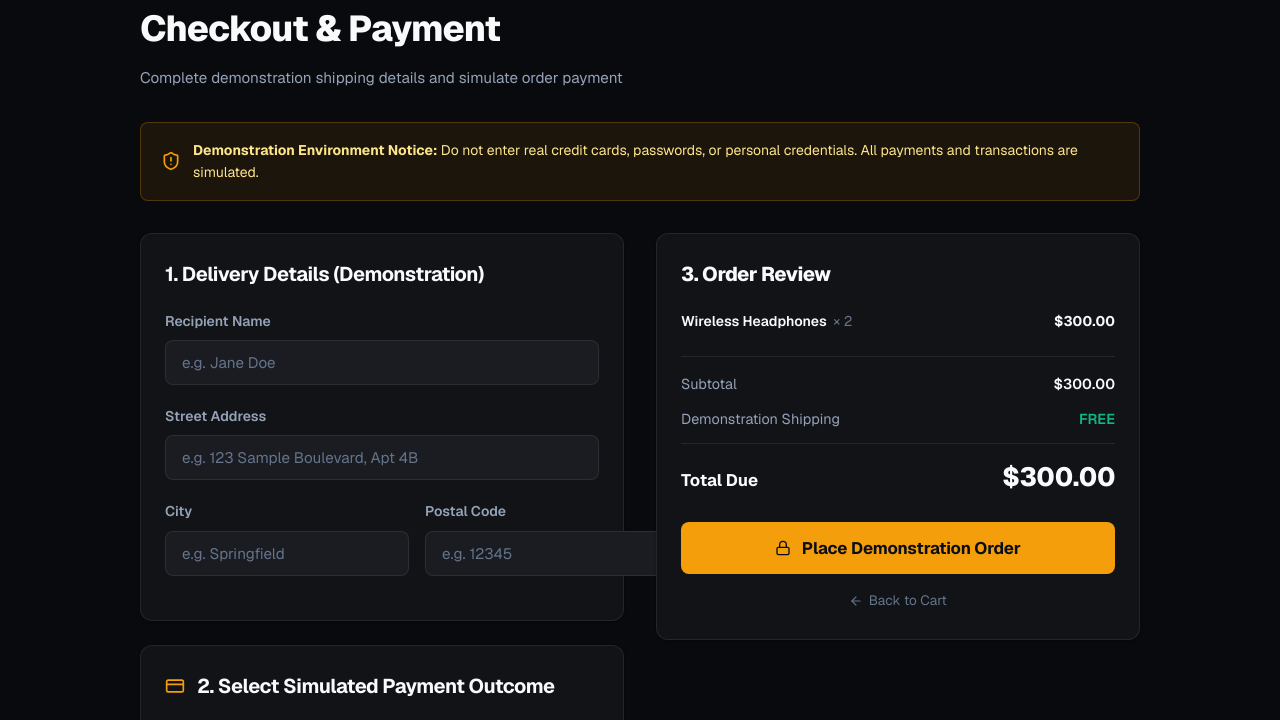
Test: Phase 5: Checkout & Simulated Payment Frontend Tests › T-CHK-UI-05: Submit button is disabled while request is in-flight
Check: the text "Wireless Headphones" is shown, box 681,312 -> 827,330
Step 1. Type "Jane Doe" into the field with placeholder "e.g. Jane Doe" → (382,363), box 165,340 -> 599,385
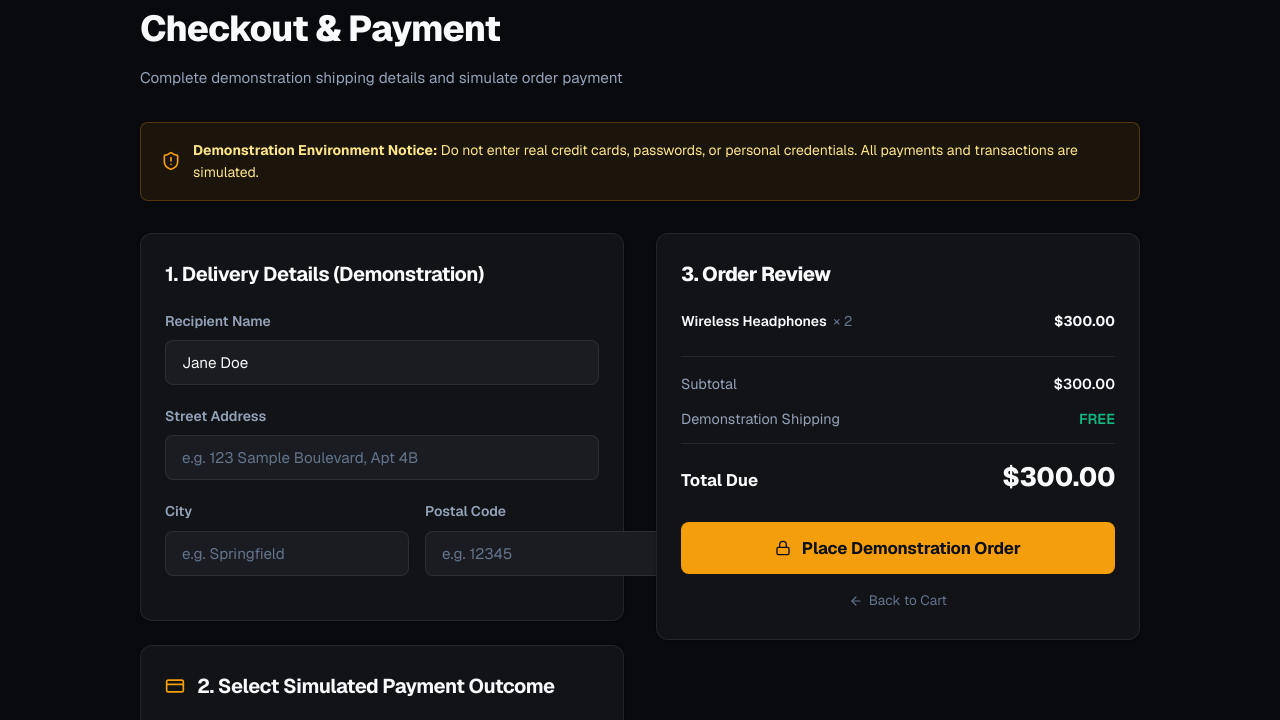
Step 2. Type "123 Test St" into the field with placeholder "e.g. 123 Sample Boulevard, Apt 4B" → (382,458), box 165,436 -> 599,480
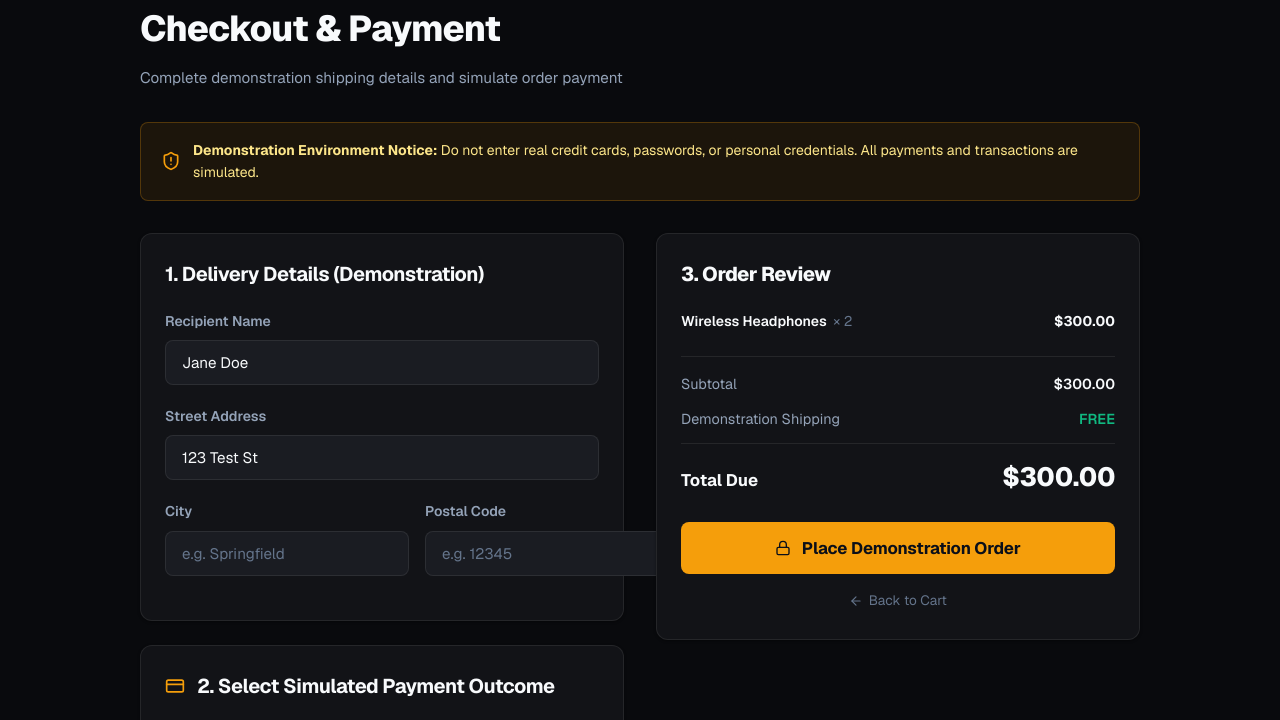
Step 3. Type "Springfield" into the field with placeholder "e.g. Springfield" → (287,553), box 165,531 -> 409,576
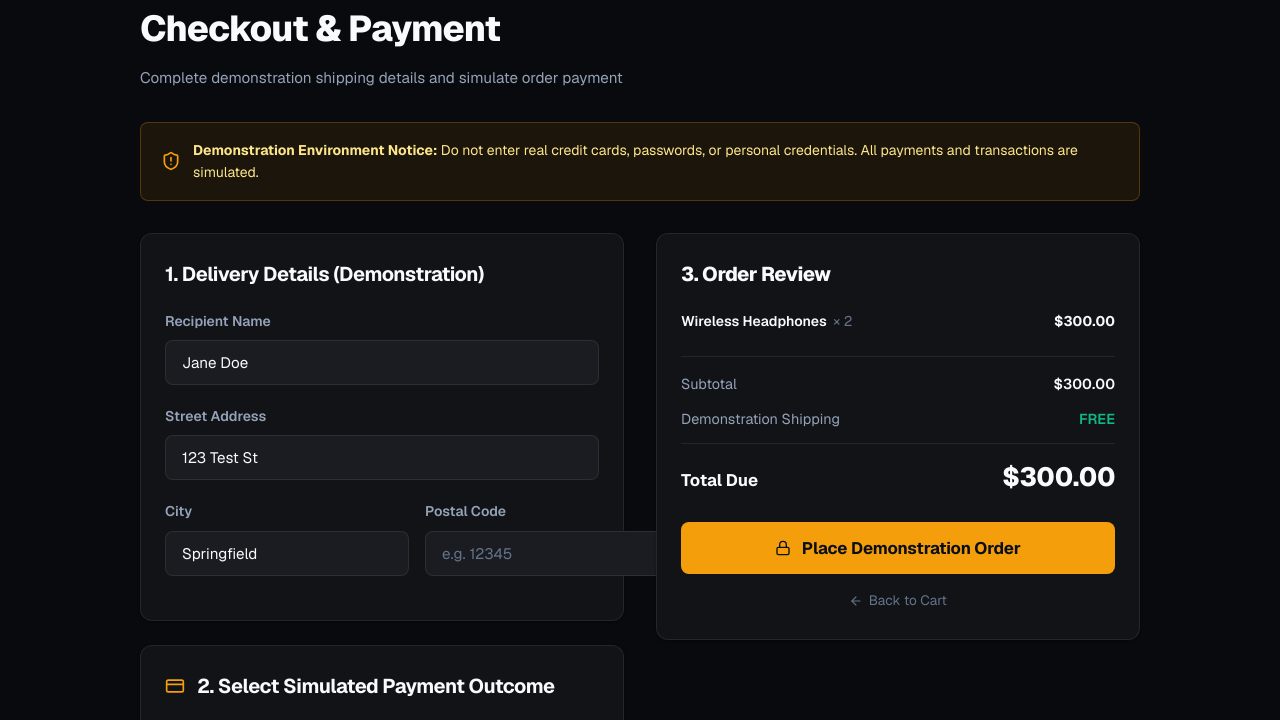
Step 4. Type "12345" into the field with placeholder "e.g. 12345" → (547,553), box 425,531 -> 669,576
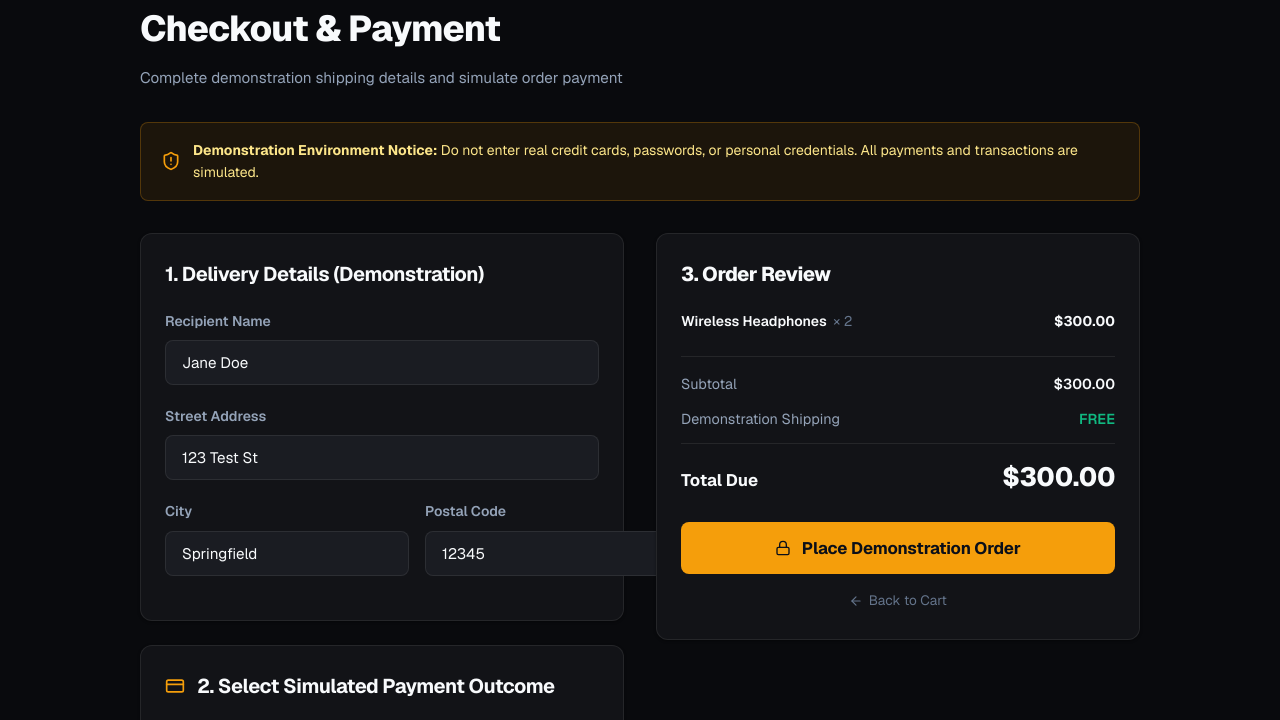
Step 5. Click the button "Place Demonstration Order" → (898,548), box 681,522 -> 1115,574
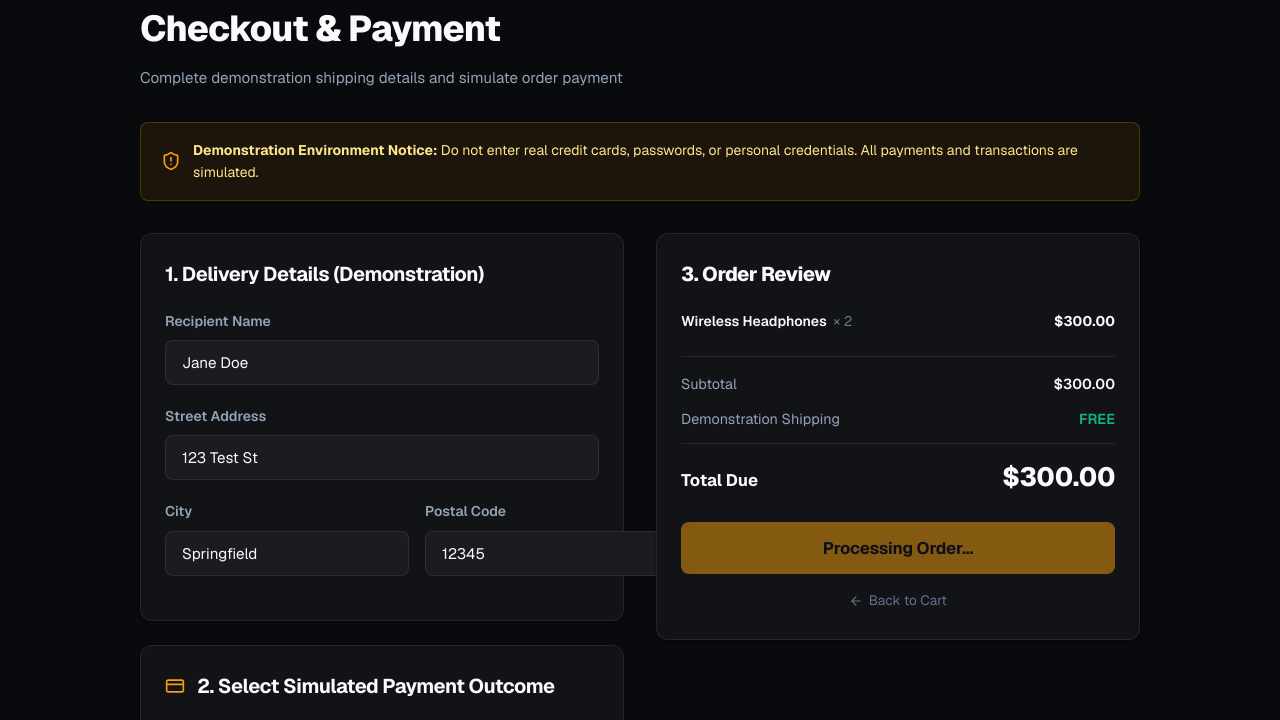
Check: the button "Processing Order..." is disabled, box 681,522 -> 1115,574
